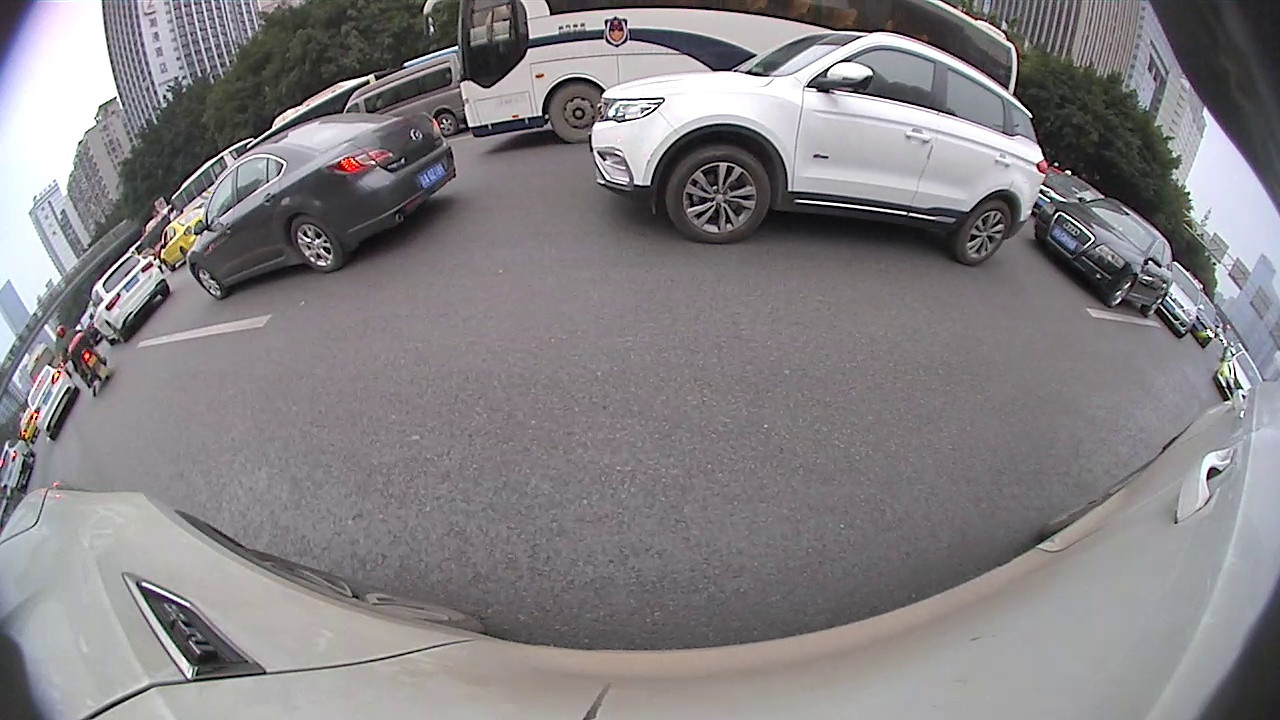bus: (423, 3, 1022, 147), (247, 68, 384, 143), (172, 136, 250, 209)
car: (586, 27, 1048, 270), (185, 105, 459, 303), (1032, 195, 1176, 316), (342, 53, 470, 137), (91, 247, 170, 345), (22, 362, 81, 437), (1036, 170, 1111, 228), (1162, 257, 1203, 339), (160, 201, 206, 273), (1215, 345, 1261, 413), (0, 431, 38, 493), (1195, 289, 1218, 346)
front: (666, 146, 770, 244), (548, 82, 602, 142), (193, 265, 225, 298), (1105, 274, 1138, 306)
rear: (955, 201, 1011, 264), (289, 216, 342, 271), (1142, 295, 1165, 317), (436, 113, 456, 134)
rider: (51, 320, 111, 394)
